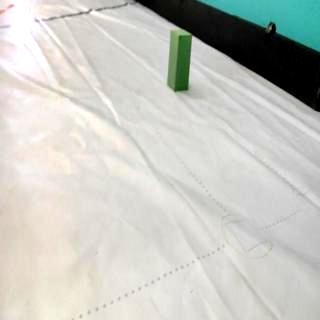greenbox: (168, 28, 192, 92)
